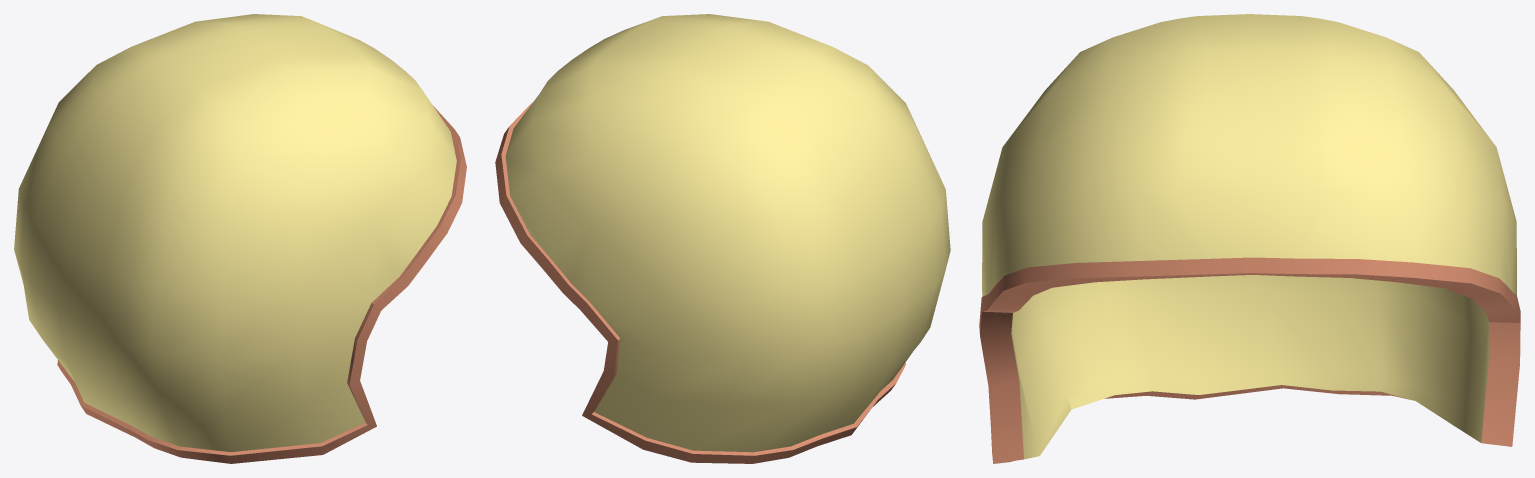
File: KASK.fbx
3 views of the same model, side by side, from view 1: azimuth 30°, elevation 25°; view 2: azimuth 150°, elevation 25°; view 3: azimuth 270°, elevation 25° (orthographic). The views are drawn at different scales.
Parts seen in each view (by area): view 1: Plane.004; view 2: Plane.004; view 3: Plane.004.
Boxes of the visible parts, x1,y1,x2,y2 form: Plane.004: (14, 14, 466, 463); Plane.004: (495, 14, 950, 463); Plane.004: (979, 14, 1520, 463).
Size of the model in its own units: 1515 by 1376 by 1542.
